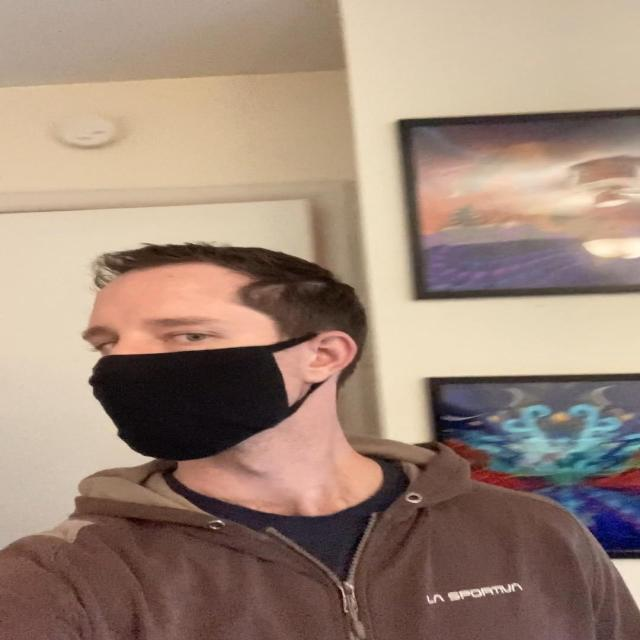no-helmet: (66, 248, 367, 472)
